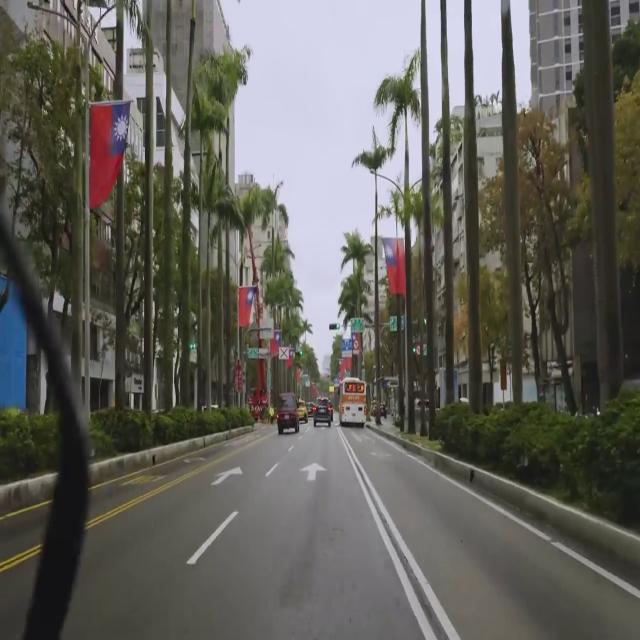green light: (328, 323, 340, 331)
